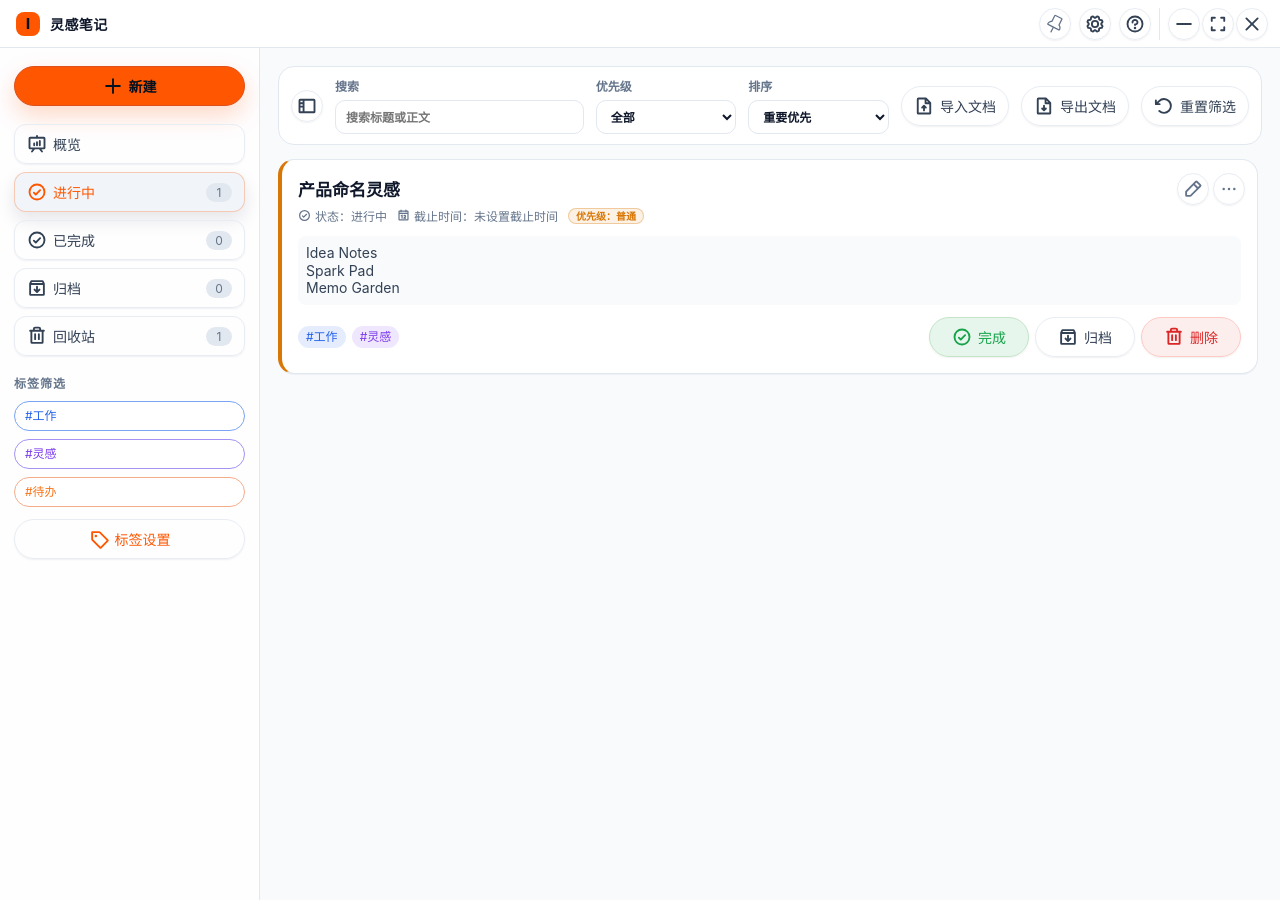
Test case: App trash failure › 回收站恢复保存失败时保留回收站视图和原卡片状态并显示错误提示
Click the button "回收站 1": {"x": 130, "y": 336} [14,316,245,356]
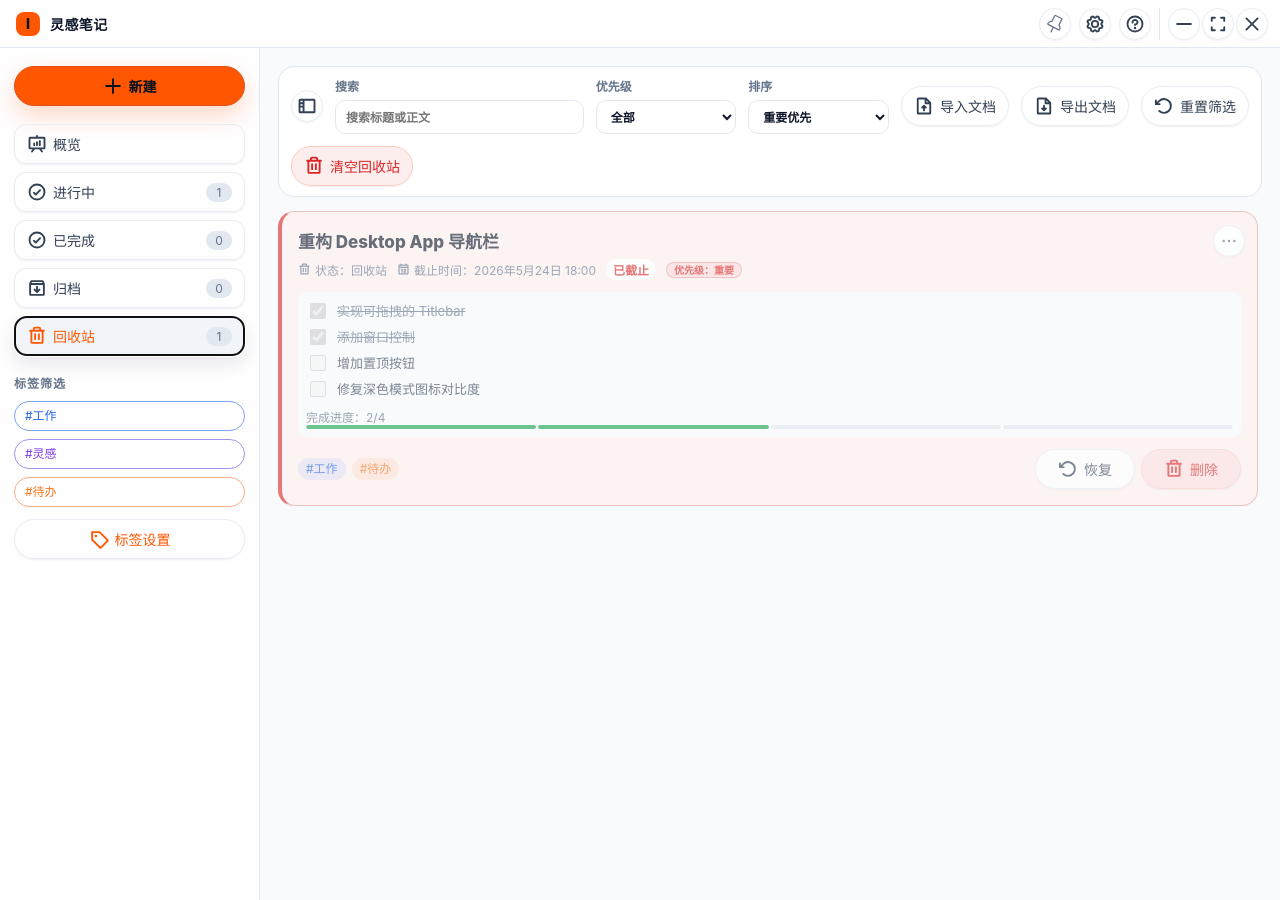
Click the button "恢复": {"x": 1085, "y": 469} [1035,449,1135,489]
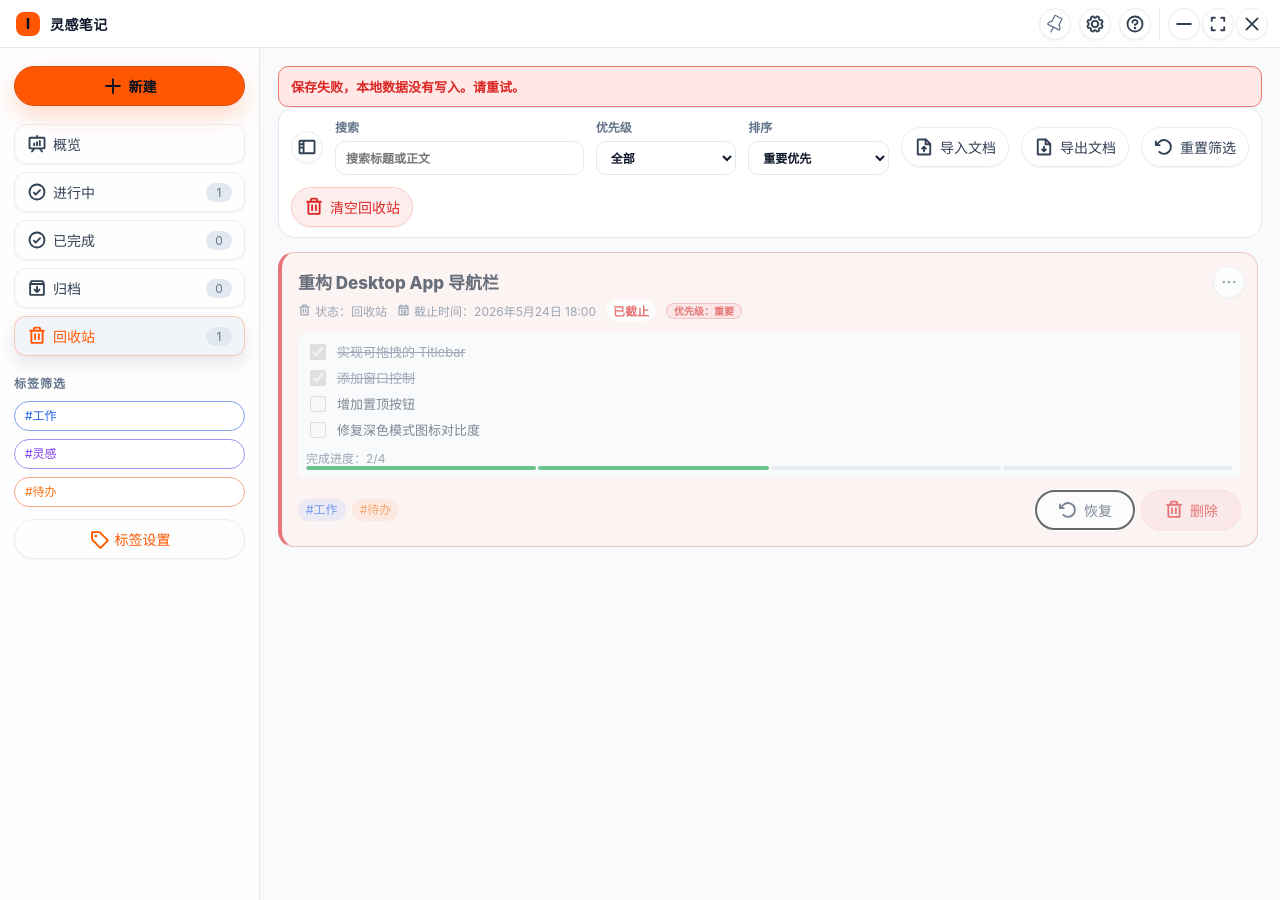
Result: the text "状态：回收站" is shown at [298,302,387,319]
Result: the element "回收站" is shown at [278,252,1258,547]
Result: the message reads "保存失败，本地数据没有写入。请重试。" at [291,79,525,95]
